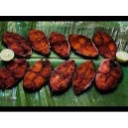seerfish: (96, 59, 124, 96), (24, 58, 51, 91), (50, 60, 74, 95), (3, 29, 31, 57), (93, 28, 118, 58), (69, 32, 97, 58), (3, 59, 26, 90), (75, 60, 94, 96), (28, 26, 50, 55), (50, 31, 69, 57)
